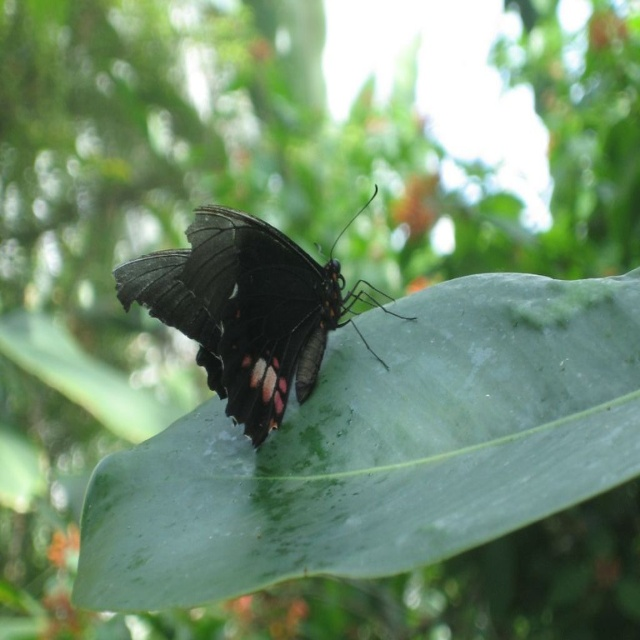Butterfly: (113, 183, 415, 450)
